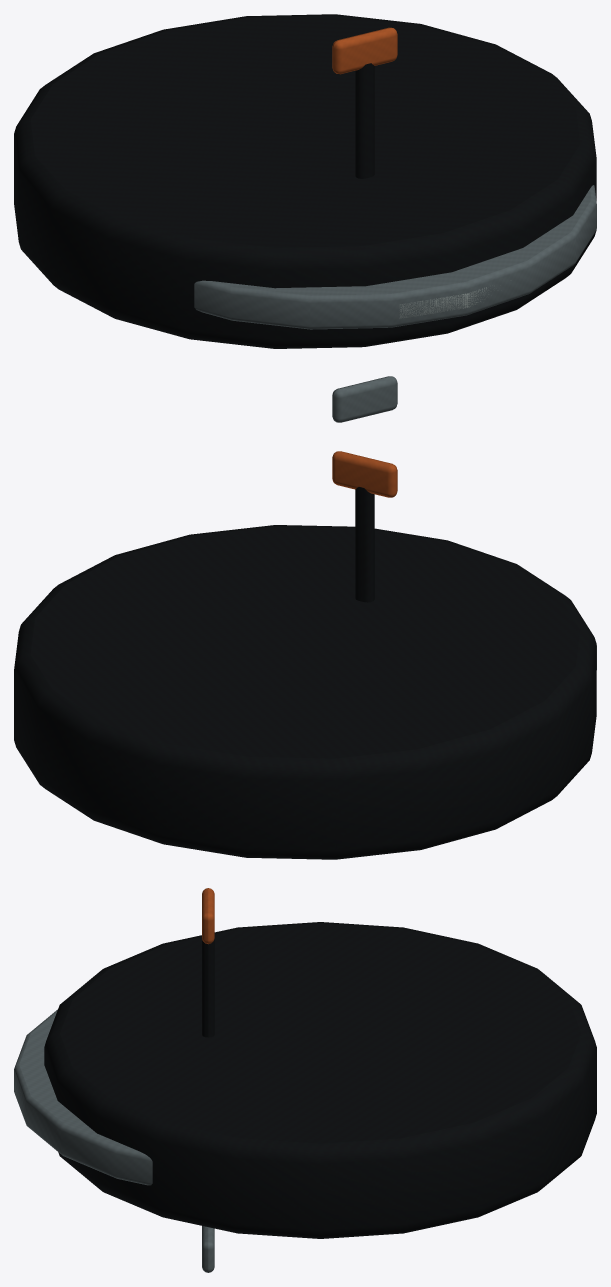
Rendered from WallClock.fbx.
3 views of the same model, one above another, from view 1: azimuth 30°, elevation 25°; view 2: azimuth 150°, elevation 25°; view 3: azimuth 270°, elevation 25° (orthographic). The views are drawn at different scales.
Visible parts, largest first — view 1: WallClock_Mesh; view 2: WallClock_Mesh; view 3: WallClock_Mesh.
Boxes of the visible parts, x1,y1,x2,y2 form: WallClock_Mesh: (14,14,596,422); WallClock_Mesh: (14,451,596,859); WallClock_Mesh: (14,888,596,1272).
Bounding box in the file's own units: 64 × 46 × 67.5.
